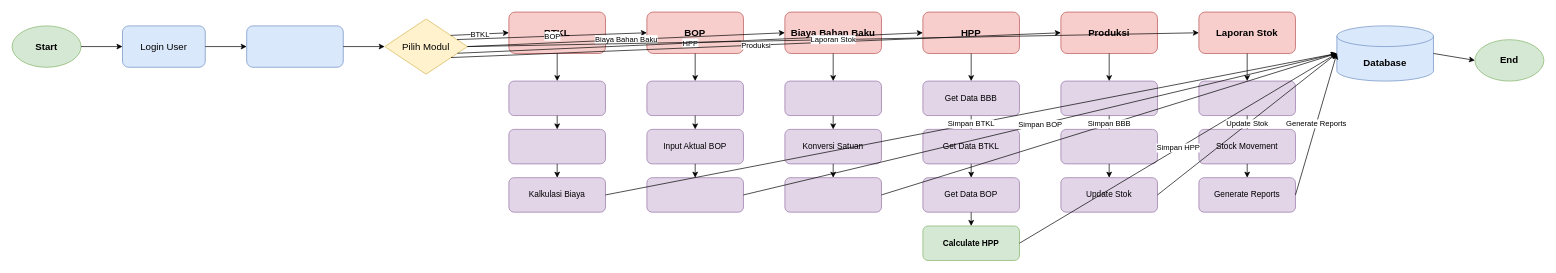
Image size: 1556x273. Some labels were removed from this diagram. The shapes that lost their labels are listed below. From the top down, each one's centre as x and y in pixels, then its label:
(294,46): Dashboard SIMCOST
(556,98): Input Tarif per Jam
(694,98): Input Budget BOP
(832,98): Input Data Bahan
(1108,98): Input Transaksi
(1246,98): Real-time Status
(556,146): Input Jam Kerja
(1108,146): Get HPP Data
(694,194): Tracking vs Budget
(832,194): Hitung Harga Rata-rata
